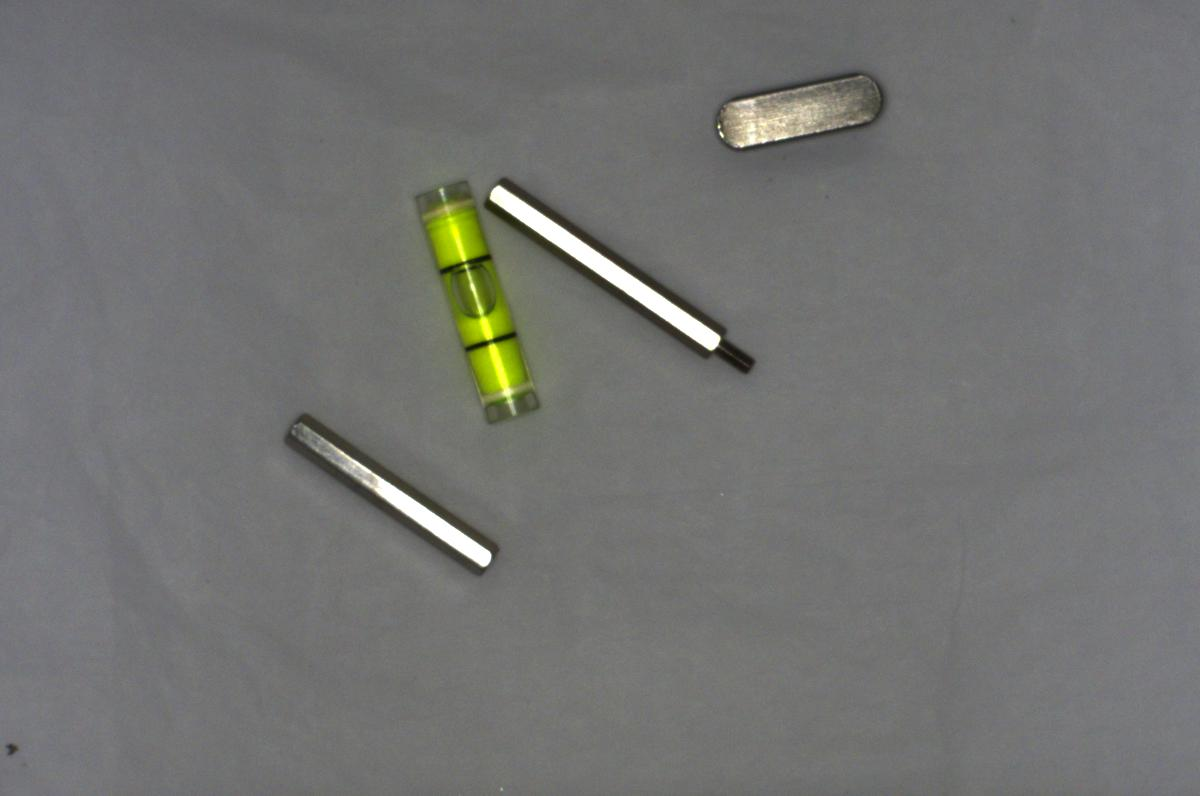Double hexagonal column: (279, 410, 501, 573)
Hexagonal steel column: (479, 172, 762, 386)
Horizontal bubble: (401, 161, 545, 426)
Keybar: (712, 69, 888, 158)
